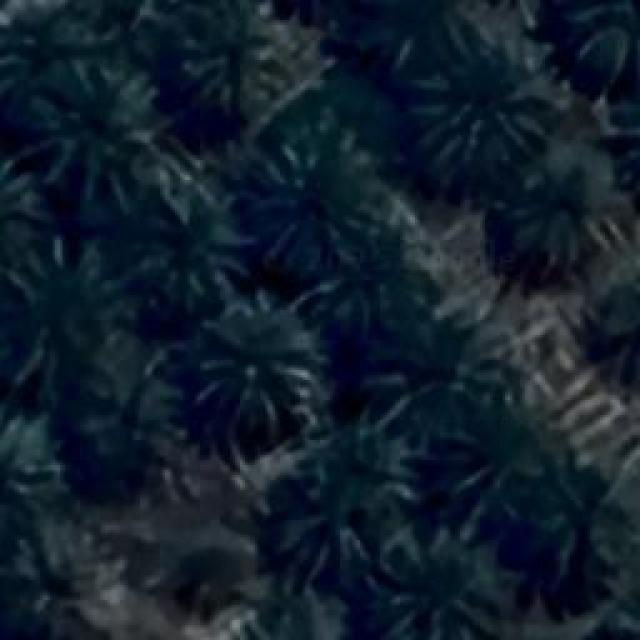PalmTree: (96, 25, 409, 100), (242, 128, 388, 262), (410, 45, 565, 160), (13, 56, 162, 169), (110, 194, 242, 306), (196, 314, 322, 428), (164, 6, 292, 114), (292, 455, 406, 565), (370, 352, 498, 446), (8, 255, 108, 375), (78, 378, 186, 486), (518, 164, 634, 258), (532, 486, 632, 592), (456, 445, 556, 545), (363, 567, 496, 640), (156, 516, 250, 612), (320, 262, 432, 340), (6, 518, 79, 632), (22, 100, 96, 207), (244, 587, 354, 640), (568, 0, 638, 80), (4, 420, 56, 498), (605, 289, 640, 379), (623, 74, 640, 204)
